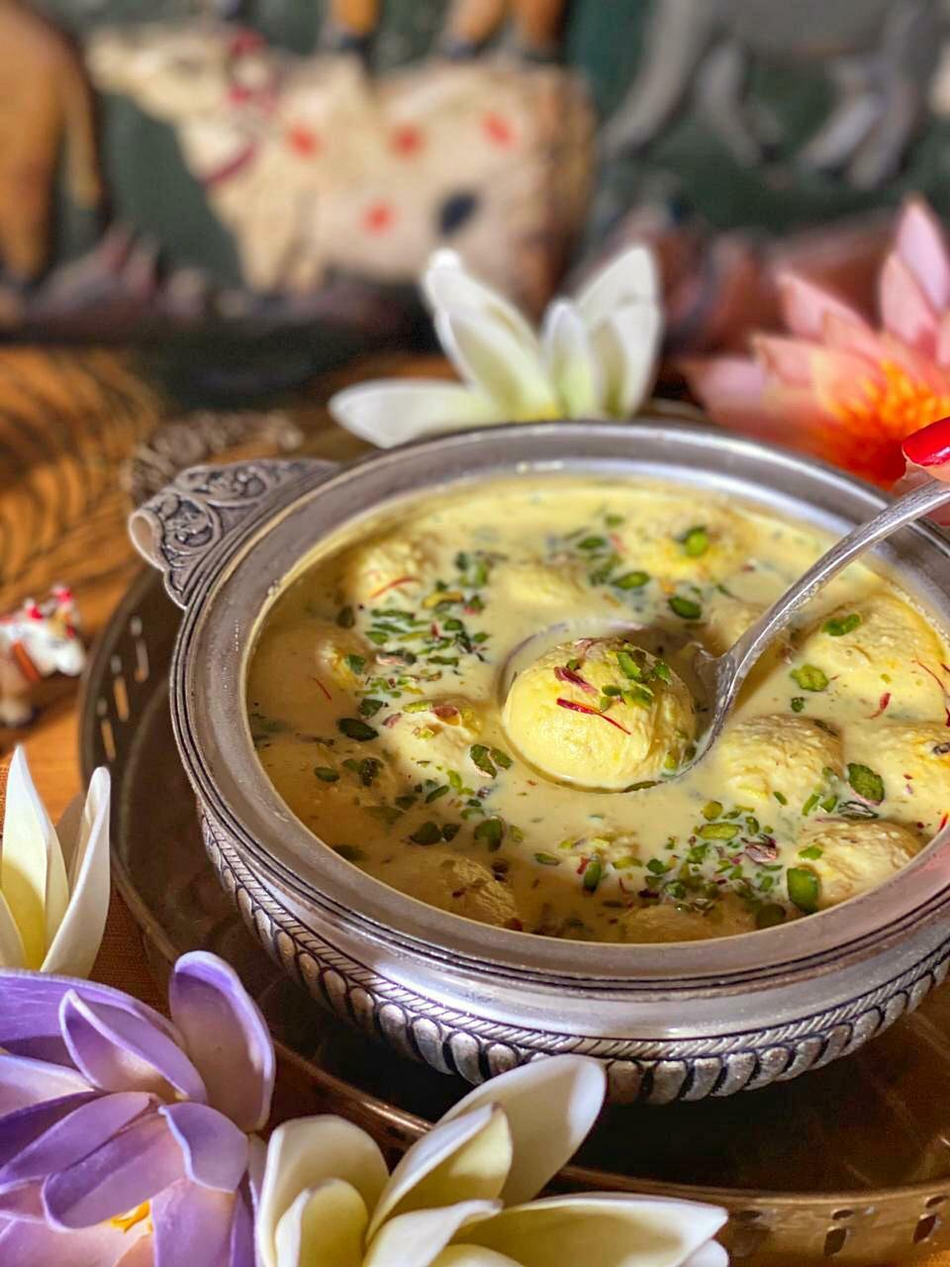RasMalai: (242, 481, 949, 947)
